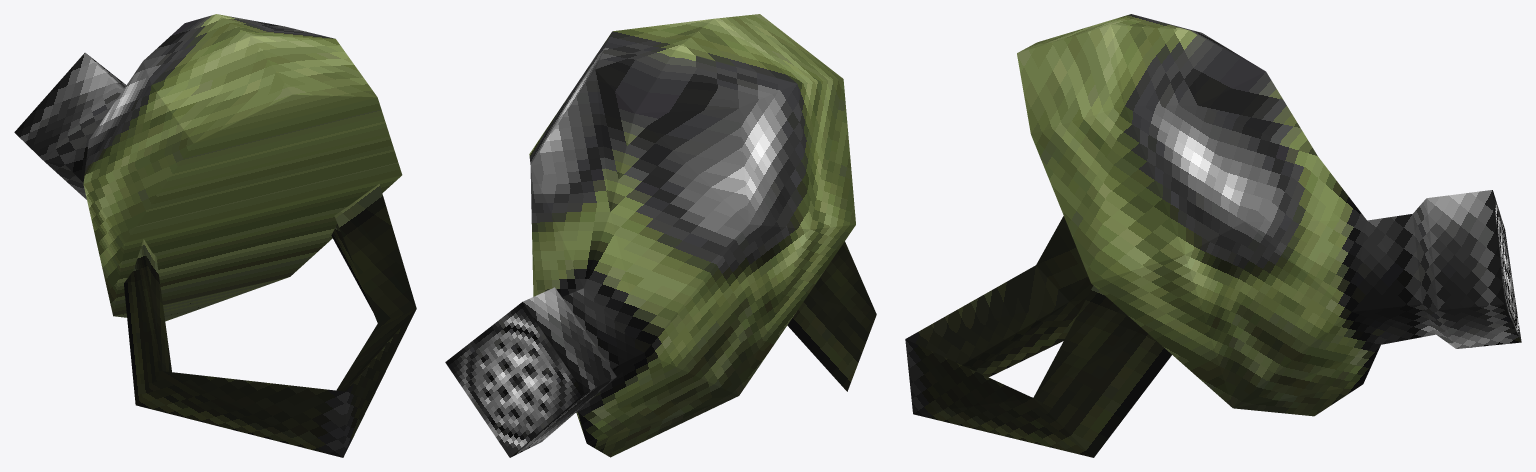
Rendered from gasmask.glb.
The picture shows the model from 3 angles, left to right: view 1: azimuth 30°, elevation 25°; view 2: azimuth 150°, elevation 25°; view 3: azimuth 270°, elevation 25°; orthographic projection. The views are drawn at different scales.
Visible parts, largest first — view 1: gasmask; view 2: gasmask; view 3: gasmask.
Boxes of the visible parts, box(x1,y1,x2,y2) form: gasmask: box(14, 14, 416, 457); gasmask: box(445, 14, 876, 457); gasmask: box(905, 14, 1521, 457).
Bounding box in the file's own units: 10.69 × 13.23 × 19.03.
1 material, 1 textured.
